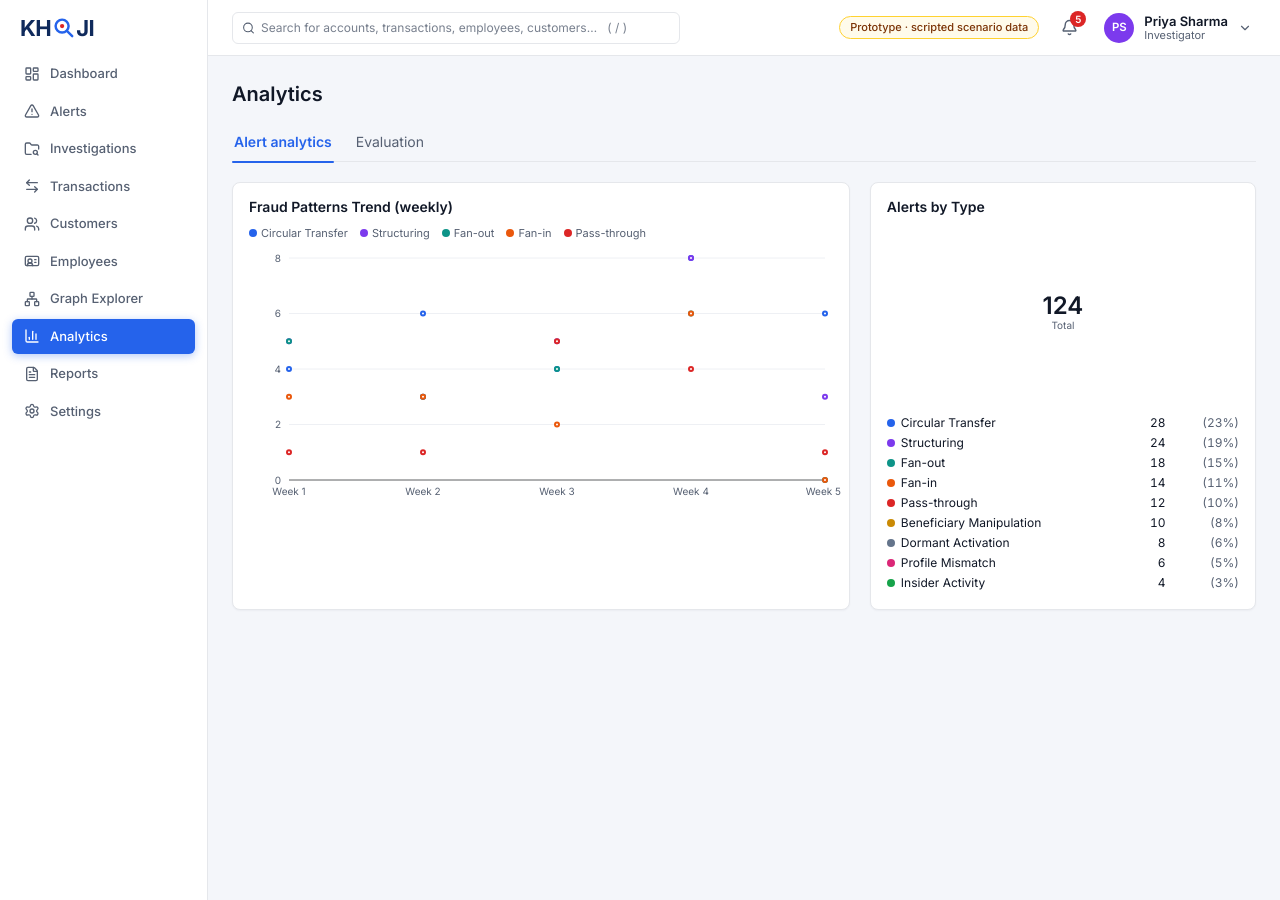
Analytics page › switches to the Evaluation tab through the URL
The image size is (1280, 900).
Step 1. Click the tab "Evaluation" → (390, 145), box [354,128,426,162]
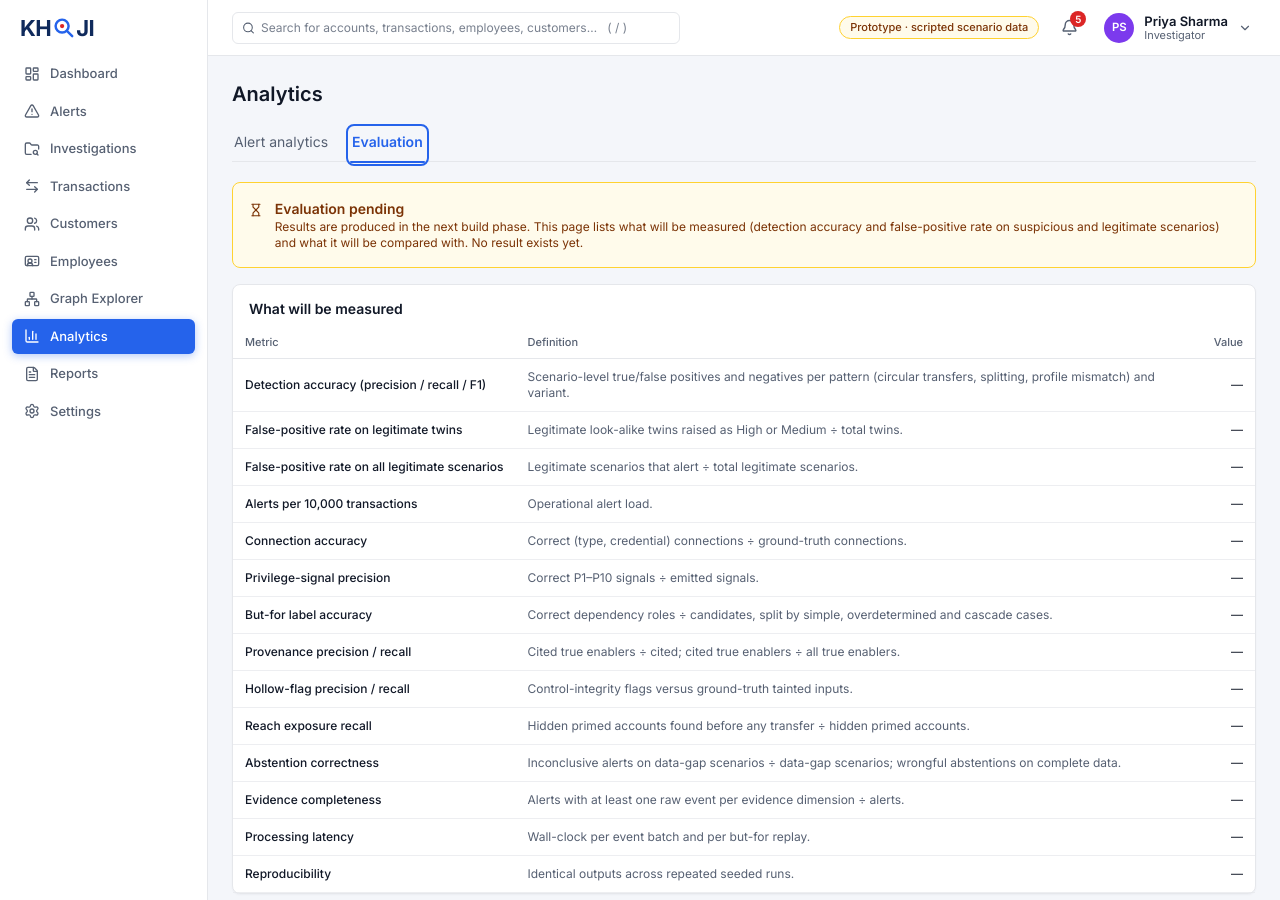
Now the message with test id "eval-banner" is shown, box [232,182,1256,268]
